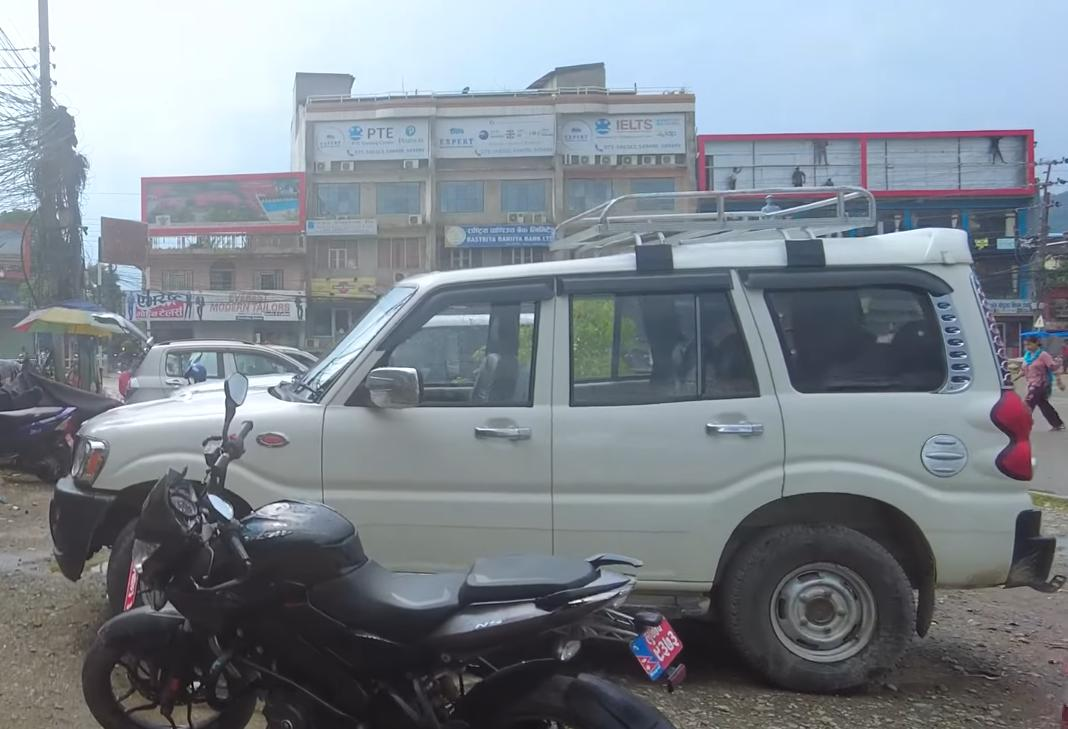SUV: (43, 178, 1056, 692)
bike: (70, 418, 696, 729)
